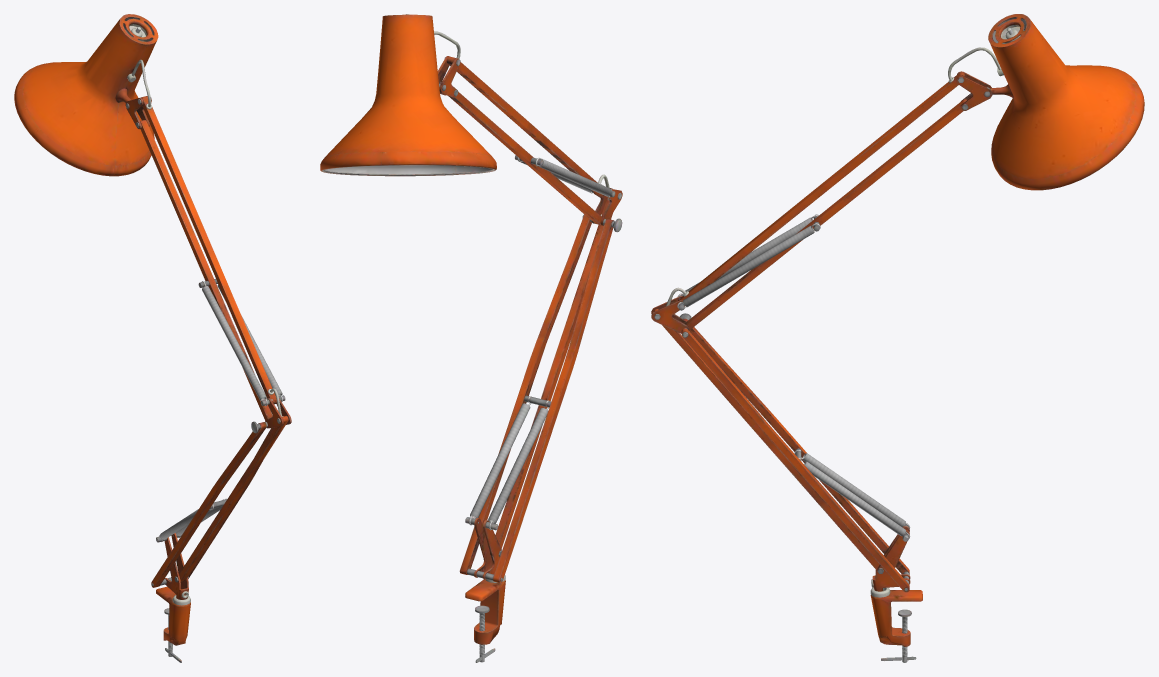
Rendered from lamp.5436d800.glb.
3 renders of one model, left to right at view 1: azimuth 30°, elevation 25°; view 2: azimuth 150°, elevation 25°; view 3: azimuth 270°, elevation 25°, orthographic. The views are drawn at different scales.
Parts seen in each view (by area): view 1: desk_lamp_arm_01; view 2: desk_lamp_arm_01; view 3: desk_lamp_arm_01.
Part boxes in pixels (x1,y1,x2,y2): desk_lamp_arm_01: (14, 14, 291, 662); desk_lamp_arm_01: (320, 14, 622, 662); desk_lamp_arm_01: (651, 14, 1144, 662).
Size of the model in its own units: 0.2017 by 0.8926 by 0.6139.
Materials: 2 (2 with a texture image).
